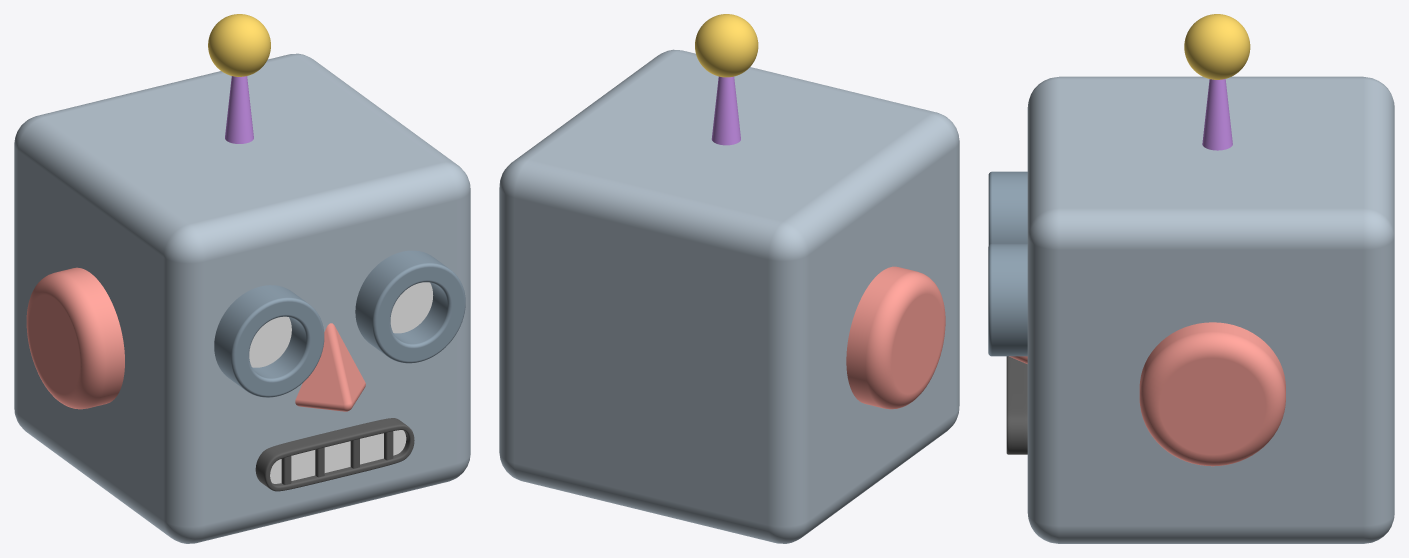
Rendered from robot.gltf.
3 renders of one model, left to right at view 1: azimuth 30°, elevation 25°; view 2: azimuth 150°, elevation 25°; view 3: azimuth 270°, elevation 25°, orthographic. The views are drawn at different scales.
Visible parts, largest first — view 1: head, Cylinder (×3), right, mouth, nose, Sphere, Ellipse (×2), white; view 2: head, right, Sphere, Cylinder; view 3: head, left, Cylinder (×3), Sphere, mouth.
Part boxes in pixels (x1=…): head: x1=14, y1=53, x2=470, y2=543; Cylinder (×3): x1=214, y1=76, x2=465, y2=397; right: x1=26, y1=267, x2=124, y2=409; mouth: x1=255, y1=418, x2=414, y2=491; nose: x1=295, y1=323, x2=365, y2=411; Sphere: x1=208, y1=14, x2=270, y2=76; Ellipse (×2): x1=249, y1=282, x2=433, y2=367; white: x1=270, y1=430, x2=406, y2=483; head: x1=499, y1=49, x2=959, y2=543; right: x1=846, y1=266, x2=945, y2=409; Sphere: x1=695, y1=14, x2=758, y2=77; Cylinder: x1=711, y1=76, x2=740, y2=145; head: x1=1027, y1=76, x2=1394, y2=543; left: x1=1139, y1=322, x2=1285, y2=466; Cylinder (×3): x1=988, y1=79, x2=1232, y2=356; Sphere: x1=1184, y1=14, x2=1250, y2=79; mouth: x1=1006, y1=356, x2=1027, y2=454.
Size of the model in its own units: 1.27 by 1.42 by 1.14.
